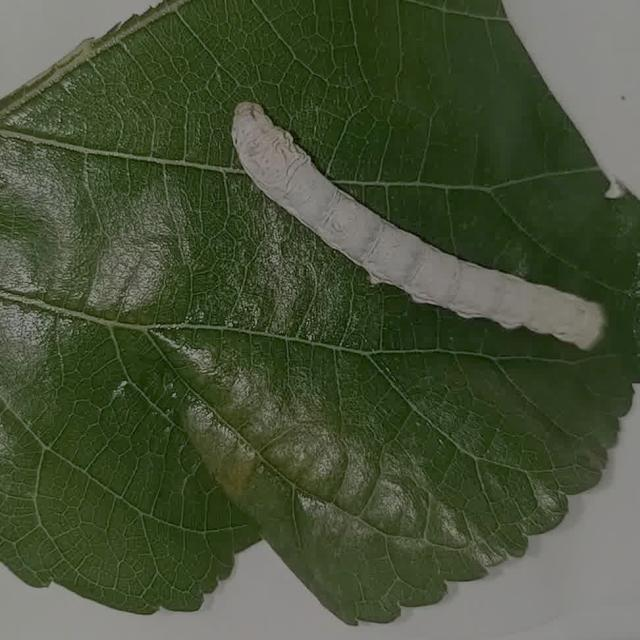Healthy: (202, 71, 623, 387)
